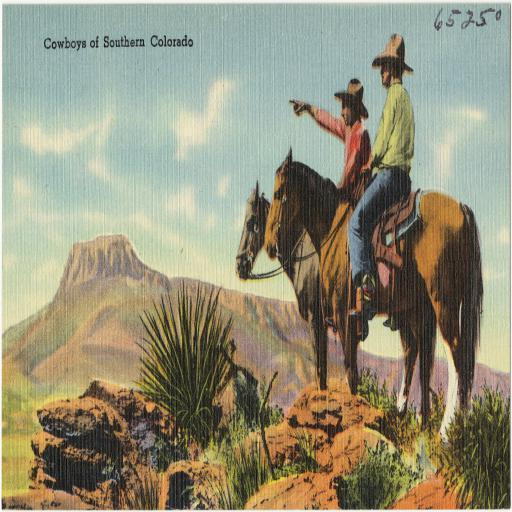horse: (262, 142, 484, 443), (228, 176, 418, 422)
